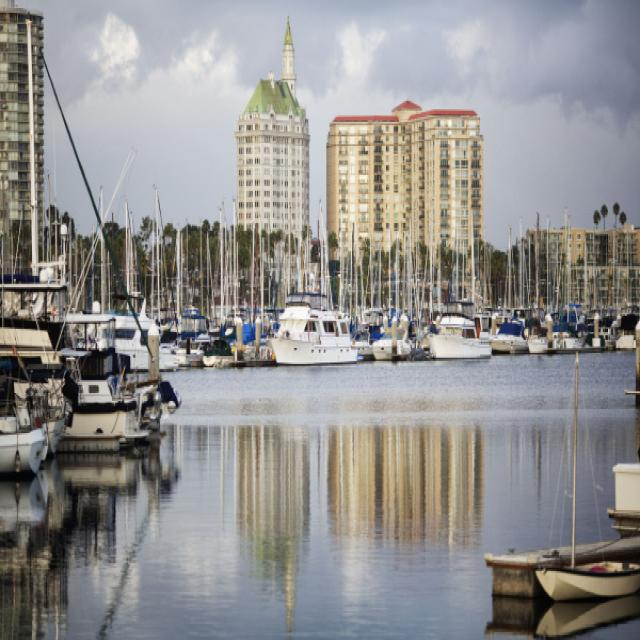houseboat: (0, 330, 53, 477), (256, 298, 366, 358), (439, 300, 492, 364)
